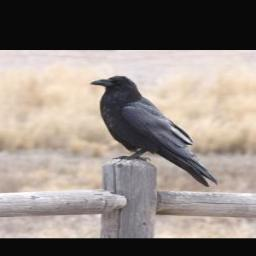Crow: (88, 74, 220, 188)
